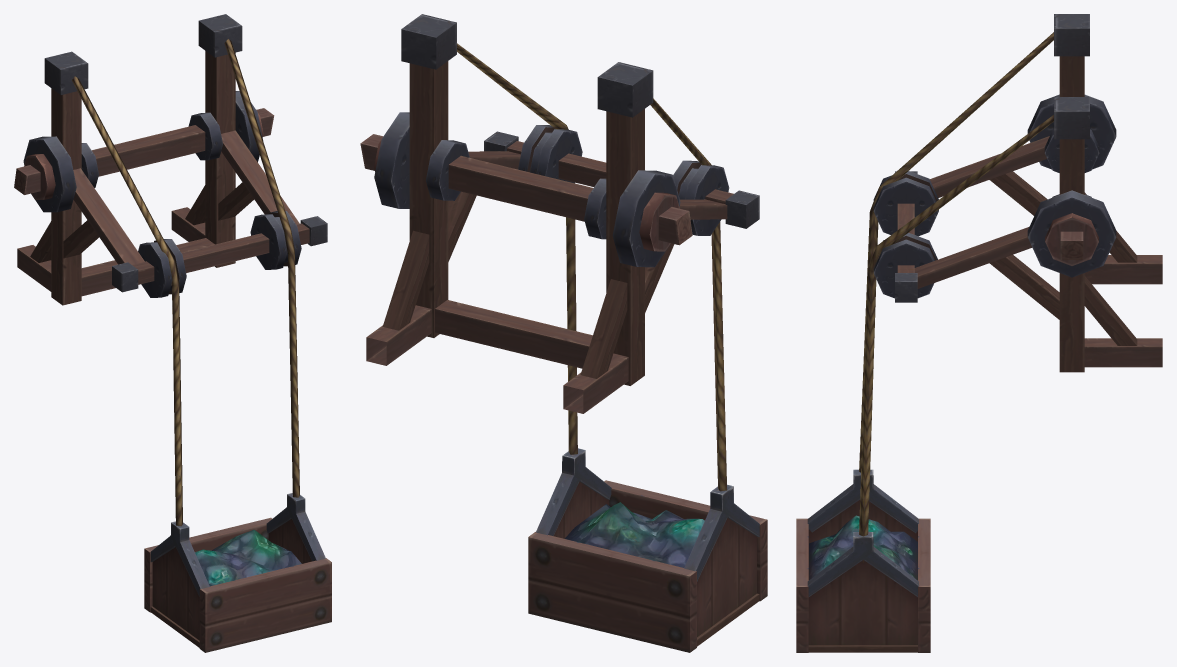
The model's file is scene_malujiakuangdao_hualun01.FBX.
3 renders of one model, left to right at view 1: azimuth 30°, elevation 25°; view 2: azimuth 150°, elevation 25°; view 3: azimuth 270°, elevation 25°, orthographic. The views are drawn at different scales.
Parts seen in each view (by area): view 1: scene_malujiakuangdao_hualun01; view 2: scene_malujiakuangdao_hualun01; view 3: scene_malujiakuangdao_hualun01.
Boxes of the visible parts, x1,y1,x2,y2 form: scene_malujiakuangdao_hualun01: [14, 14, 331, 652]; scene_malujiakuangdao_hualun01: [360, 14, 767, 652]; scene_malujiakuangdao_hualun01: [796, 14, 1162, 652].
Size of the model in its own units: 227 by 438 by 261.
